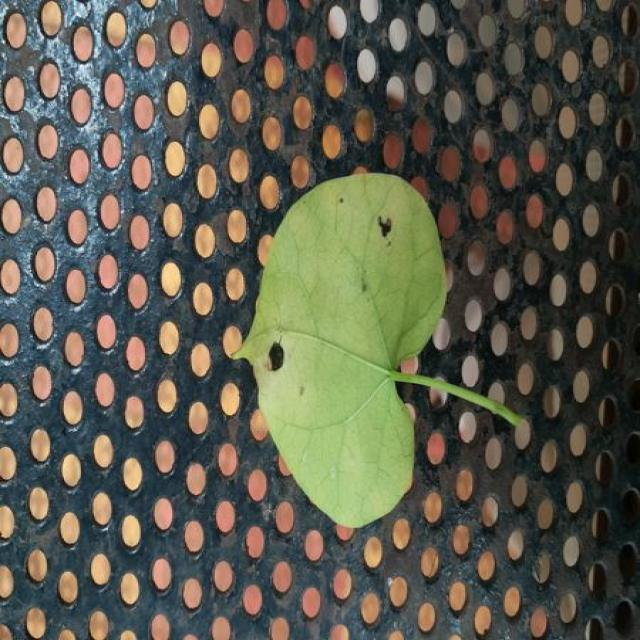Amruthaballi: (235, 174, 447, 527)
defectedAmruthaballi: (235, 174, 437, 429)
